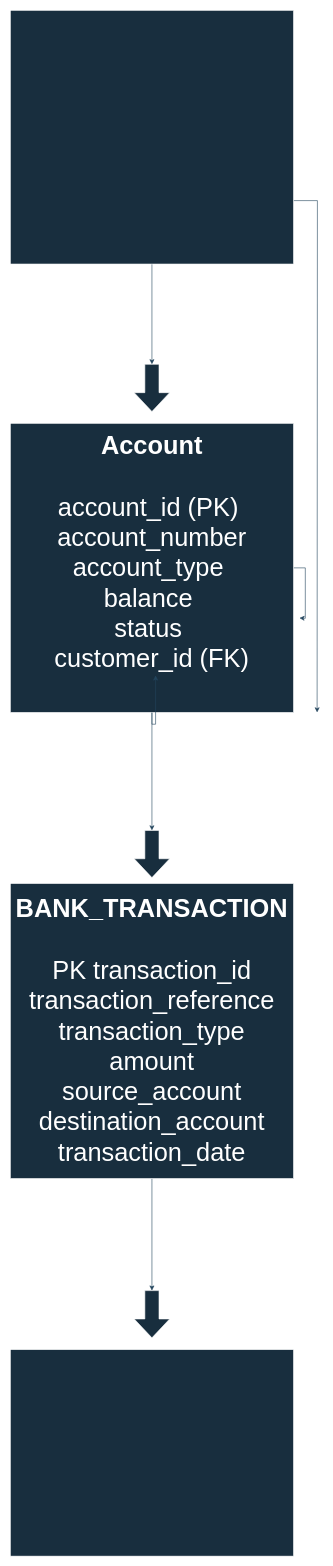
The diagram is 333 pixels wide and 1566 high, and some of its shapes have lost their labels. The box of each missing label's shape, as (x1, y1, x2, y2) in pixels:
AUDIT_LOG PK audit_id action performed_by action_time: (10, 1349, 294, 1556)
Customer PK customer_id first_name last_name email mobile_number status: (10, 10, 294, 264)
